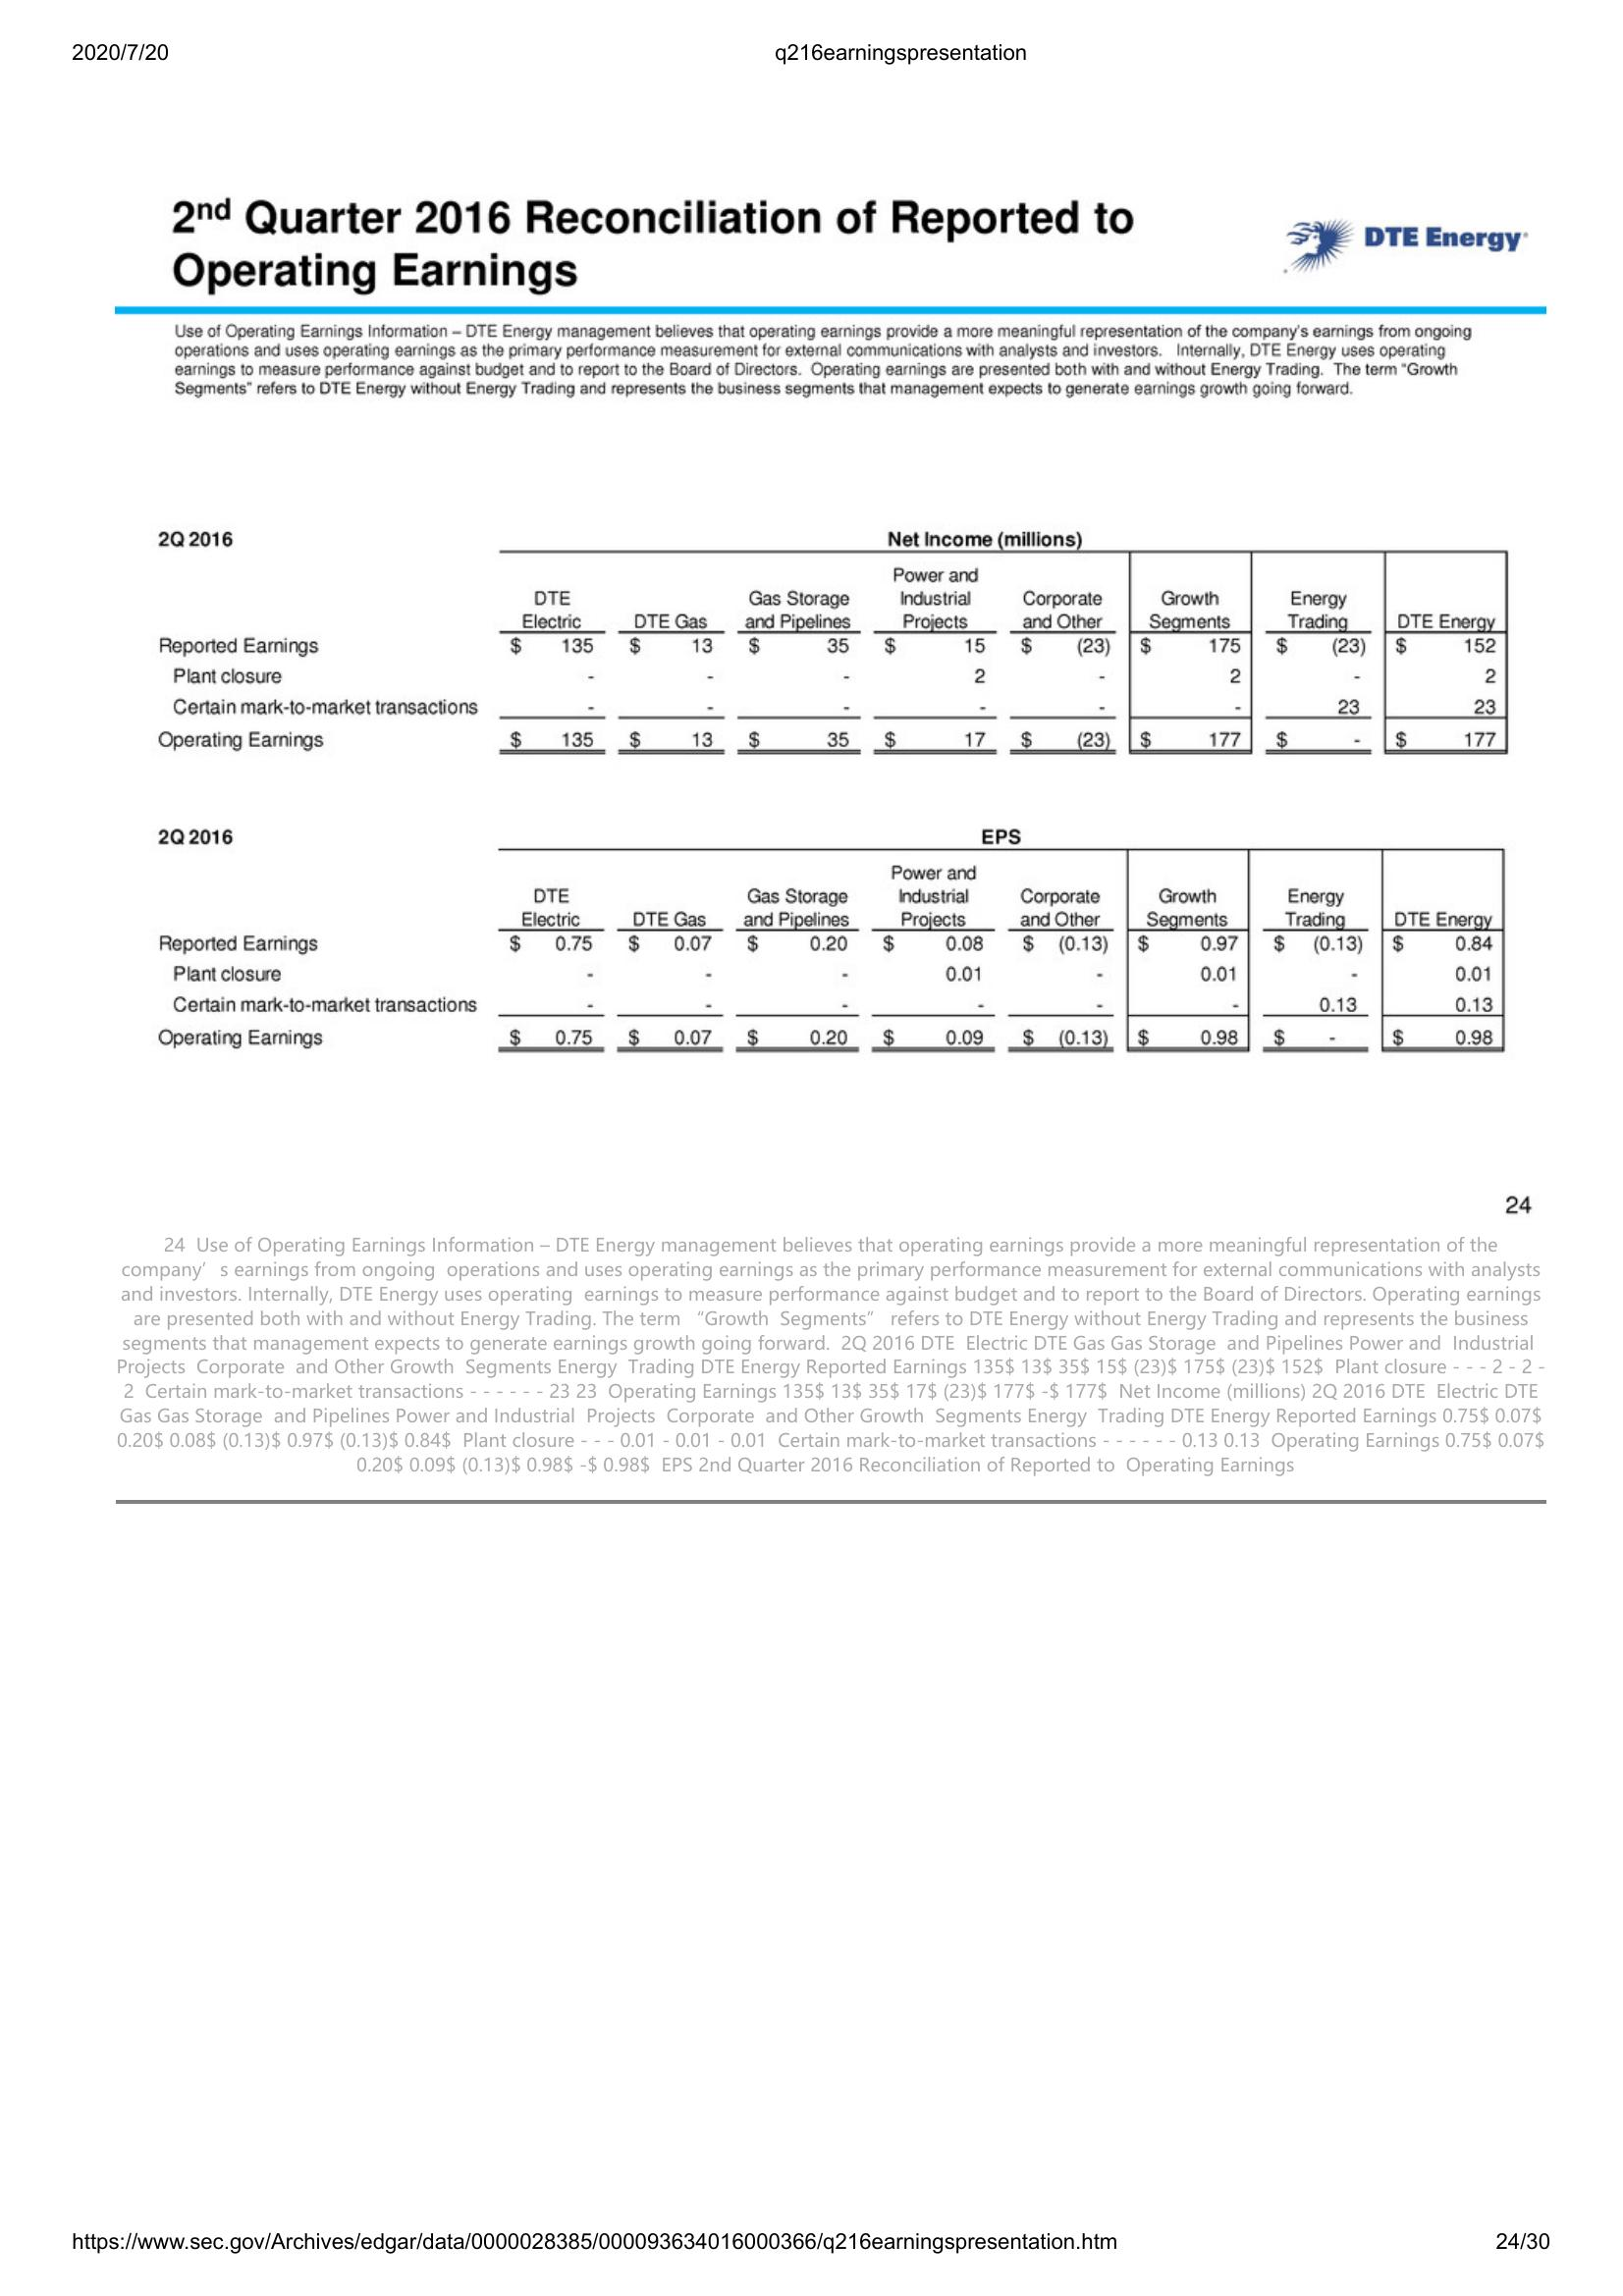table: (151, 818, 1518, 1067), (148, 521, 1521, 769)
